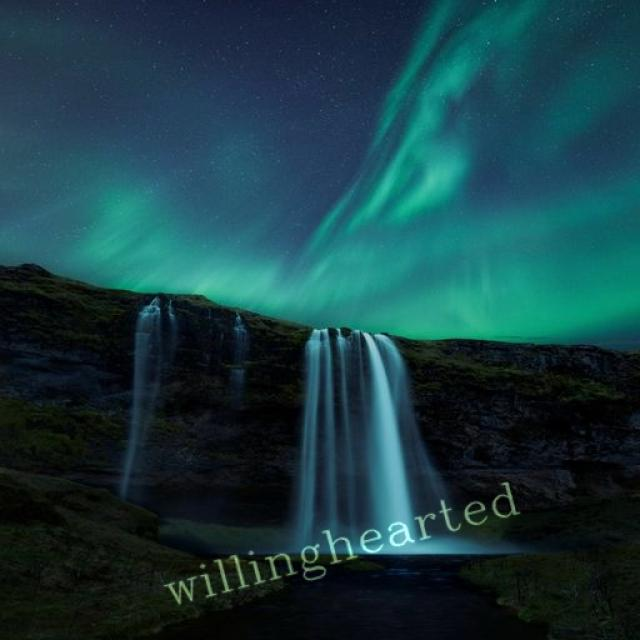watermark: (157, 477, 522, 615)
